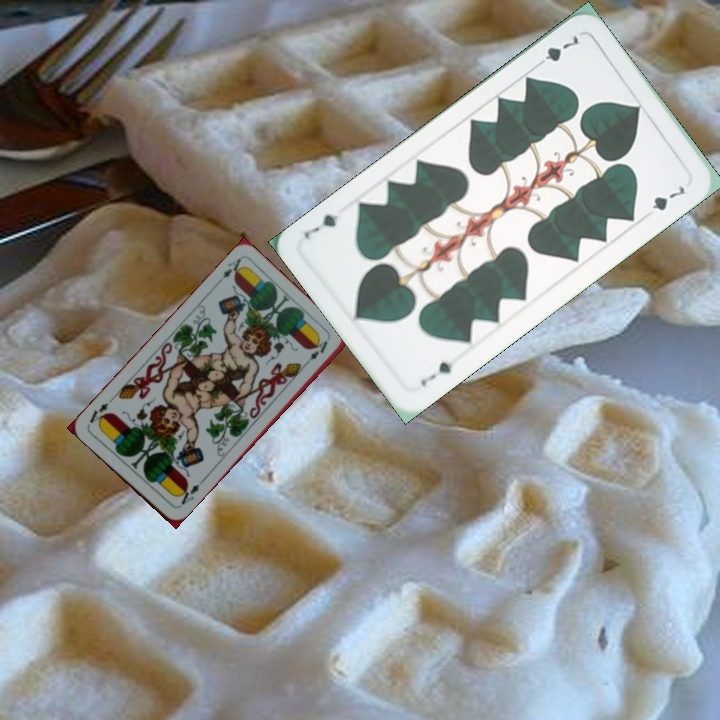EA: (212, 254, 247, 288), (173, 480, 202, 510)
G7: (530, 31, 581, 71), (416, 357, 456, 389)
